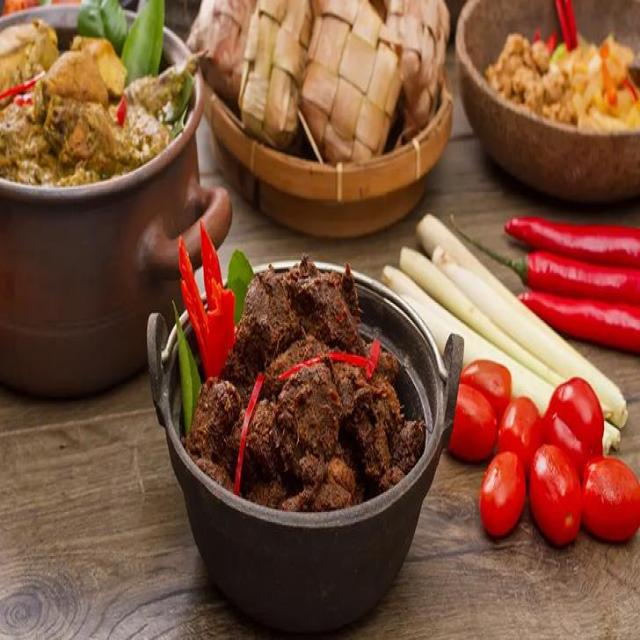Rendang: (200, 270, 425, 526)
